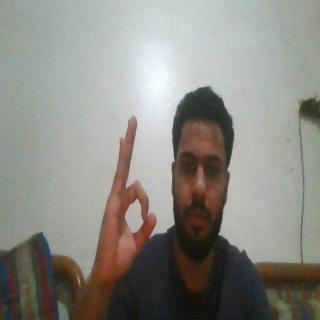Space: (90, 113, 160, 293)
